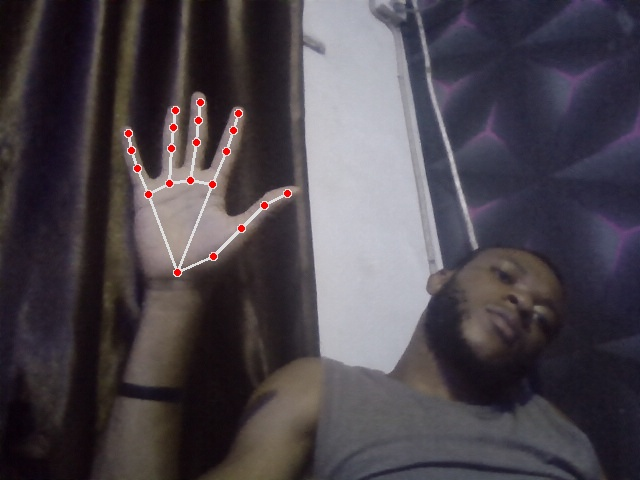no: (120, 93, 300, 282)
